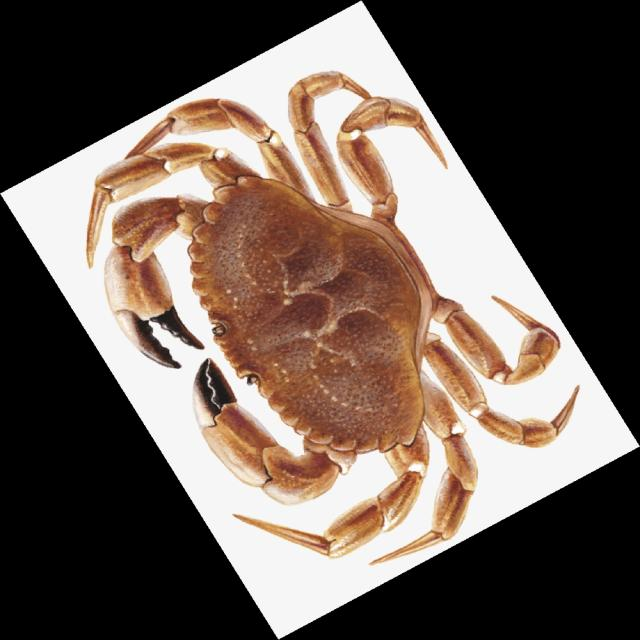Native Jonah crab: (87, 72, 579, 564)
